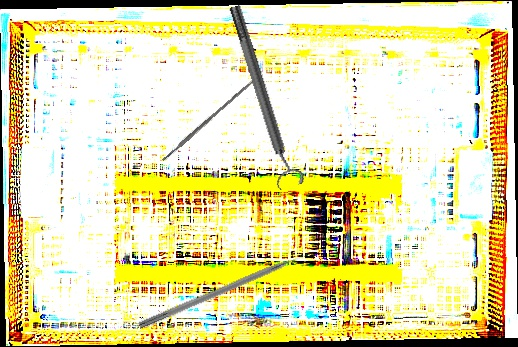Fixation Ring: (221, 1, 306, 192)
Pusher: (137, 246, 320, 332)
Scalpel Handle: (160, 75, 260, 162)
